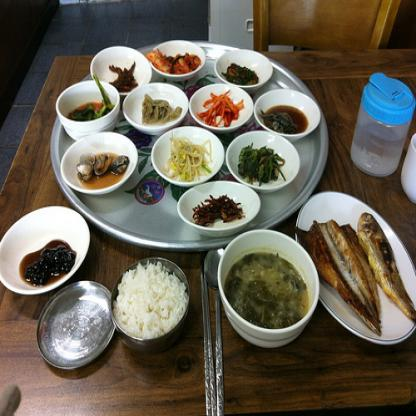Peixe: (301, 202, 414, 346)
